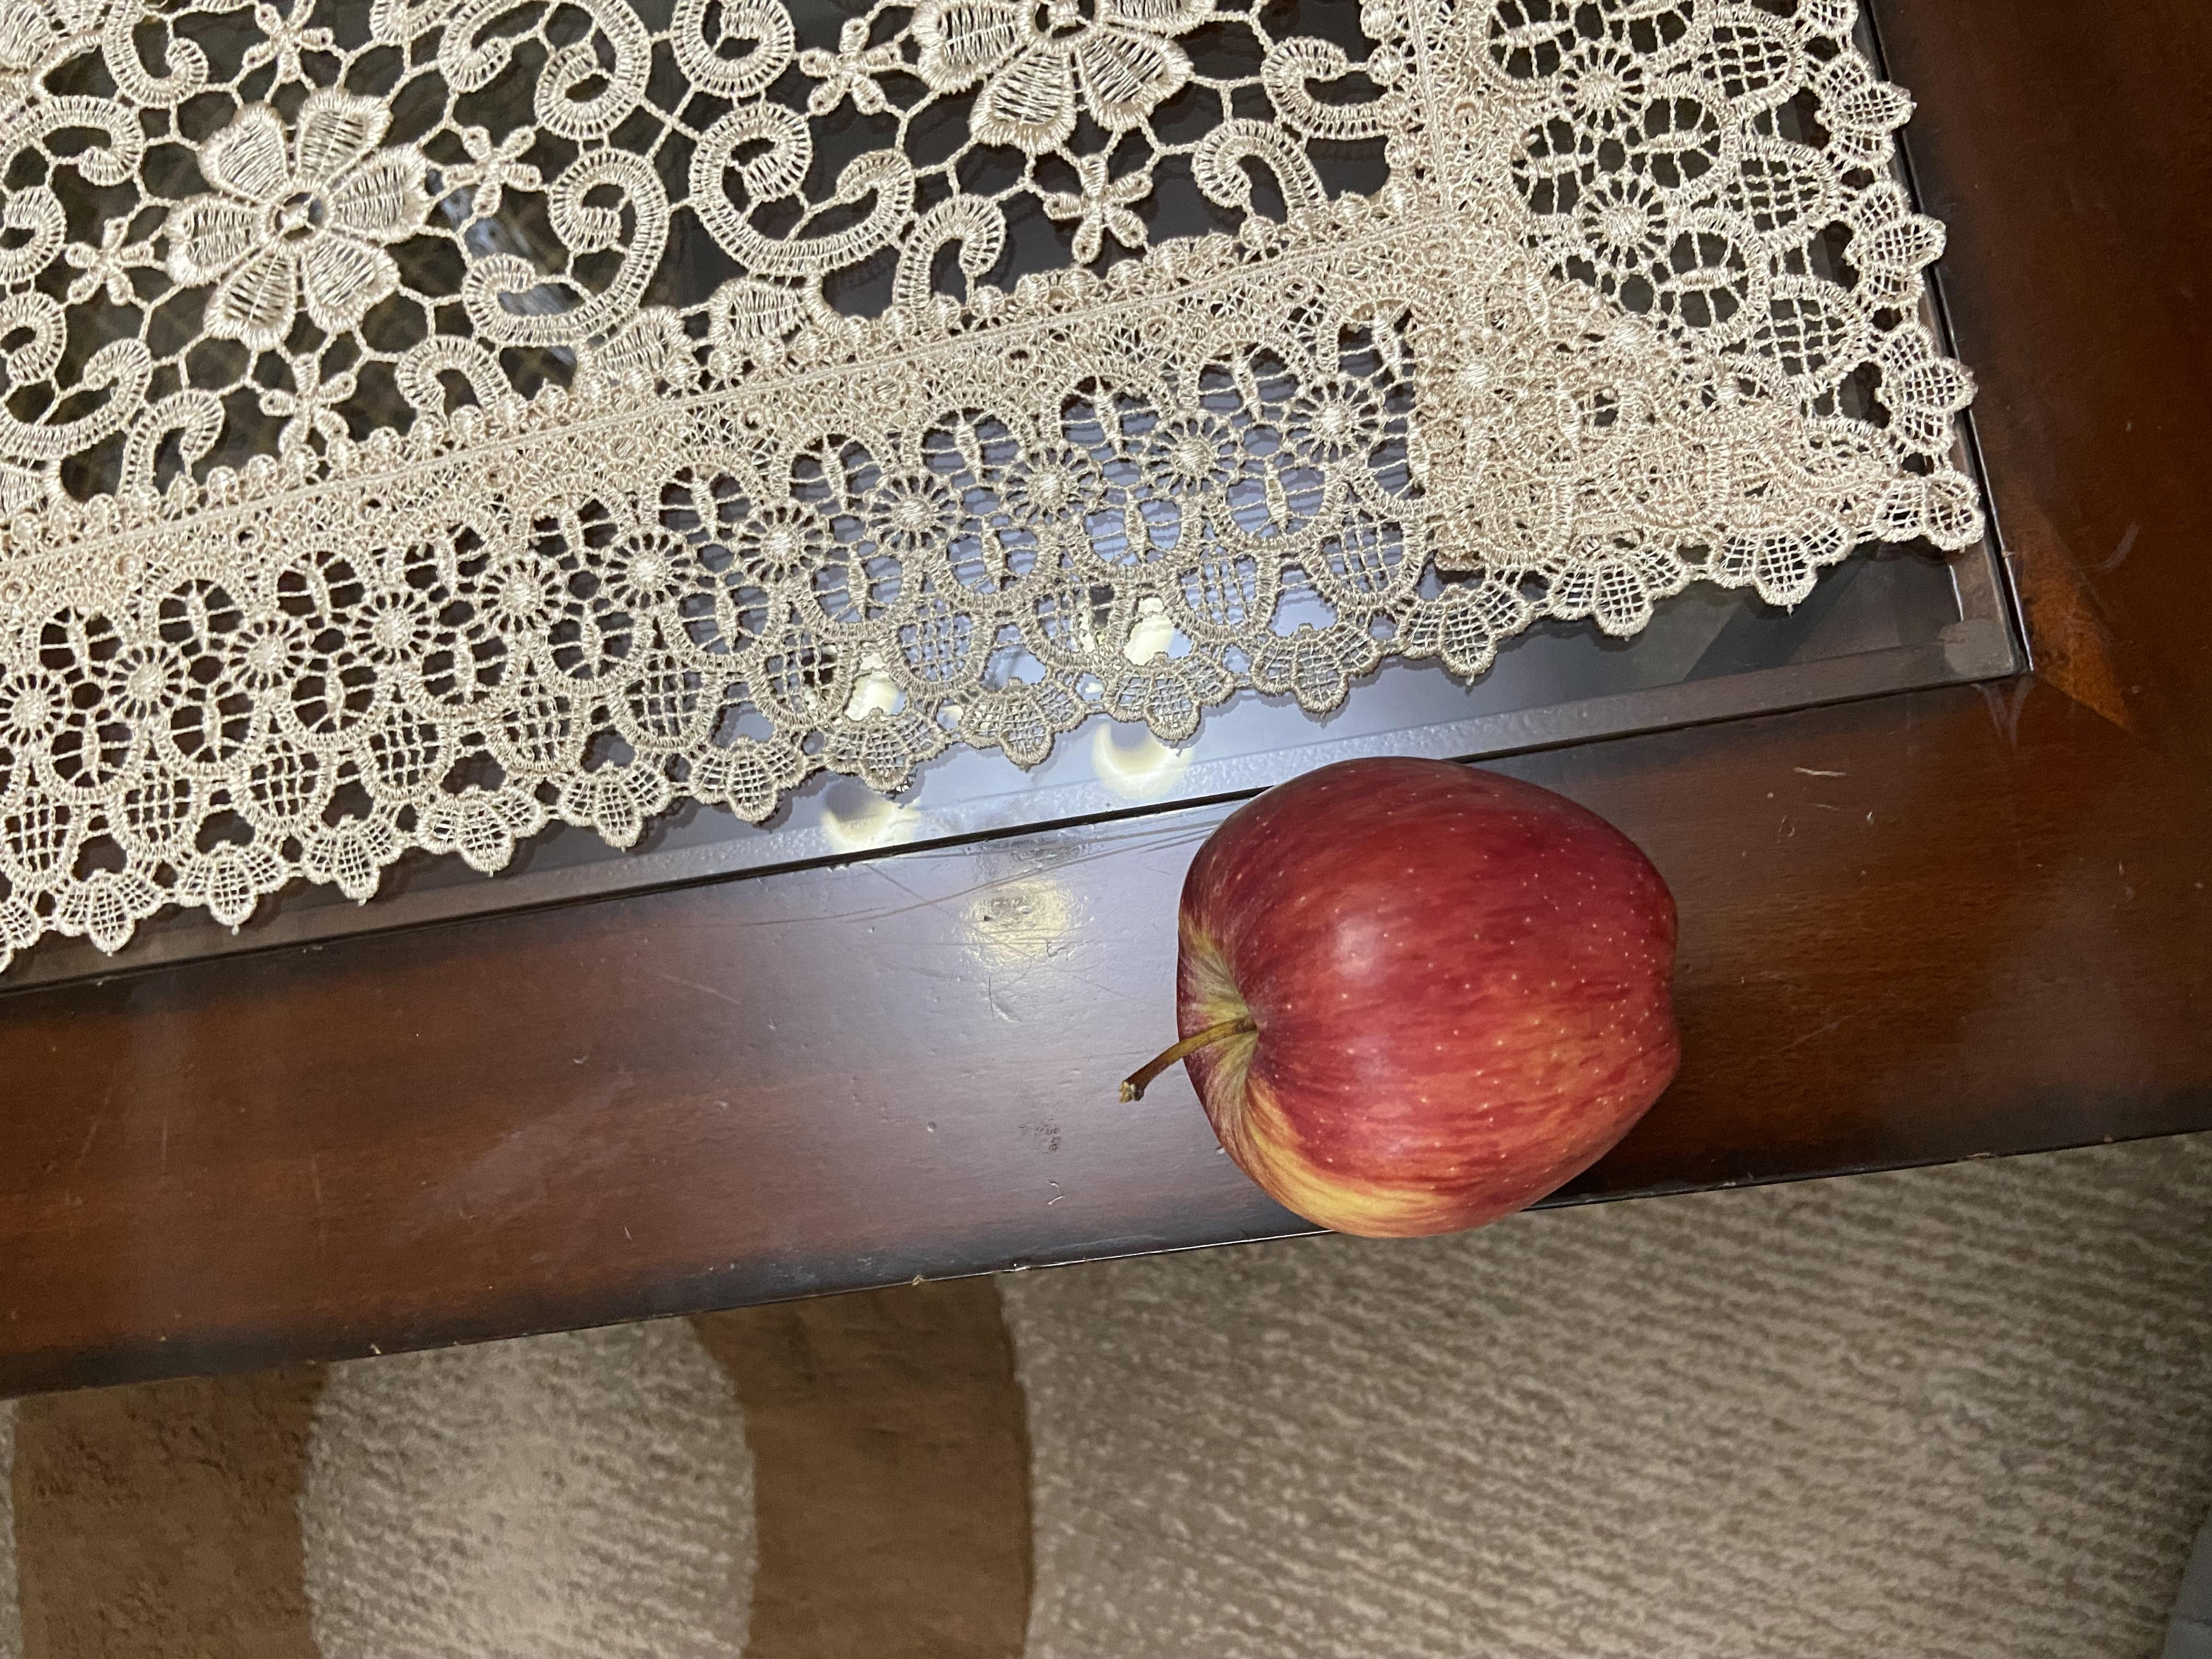Apple: (507, 406, 1104, 904)
